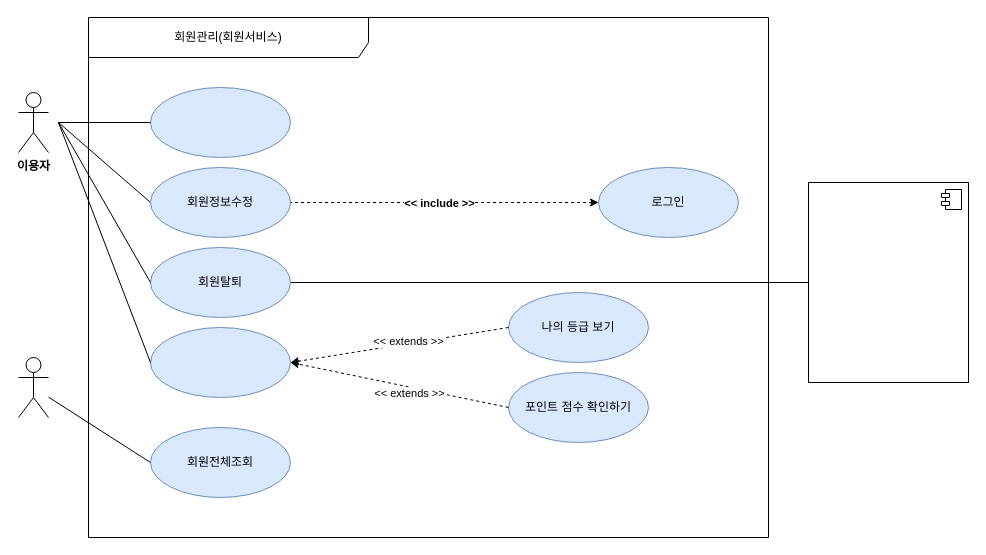
Some shapes in this 986 by 555 pixel diagram are drawn without their labels. Each missing label, with the centre of its shape:
"DBMS" belongs at (x=888, y=282).
"관리자" belongs at (x=33, y=387).
"회원등록" belongs at (x=220, y=122).
"회원정보보기" belongs at (x=220, y=362).
